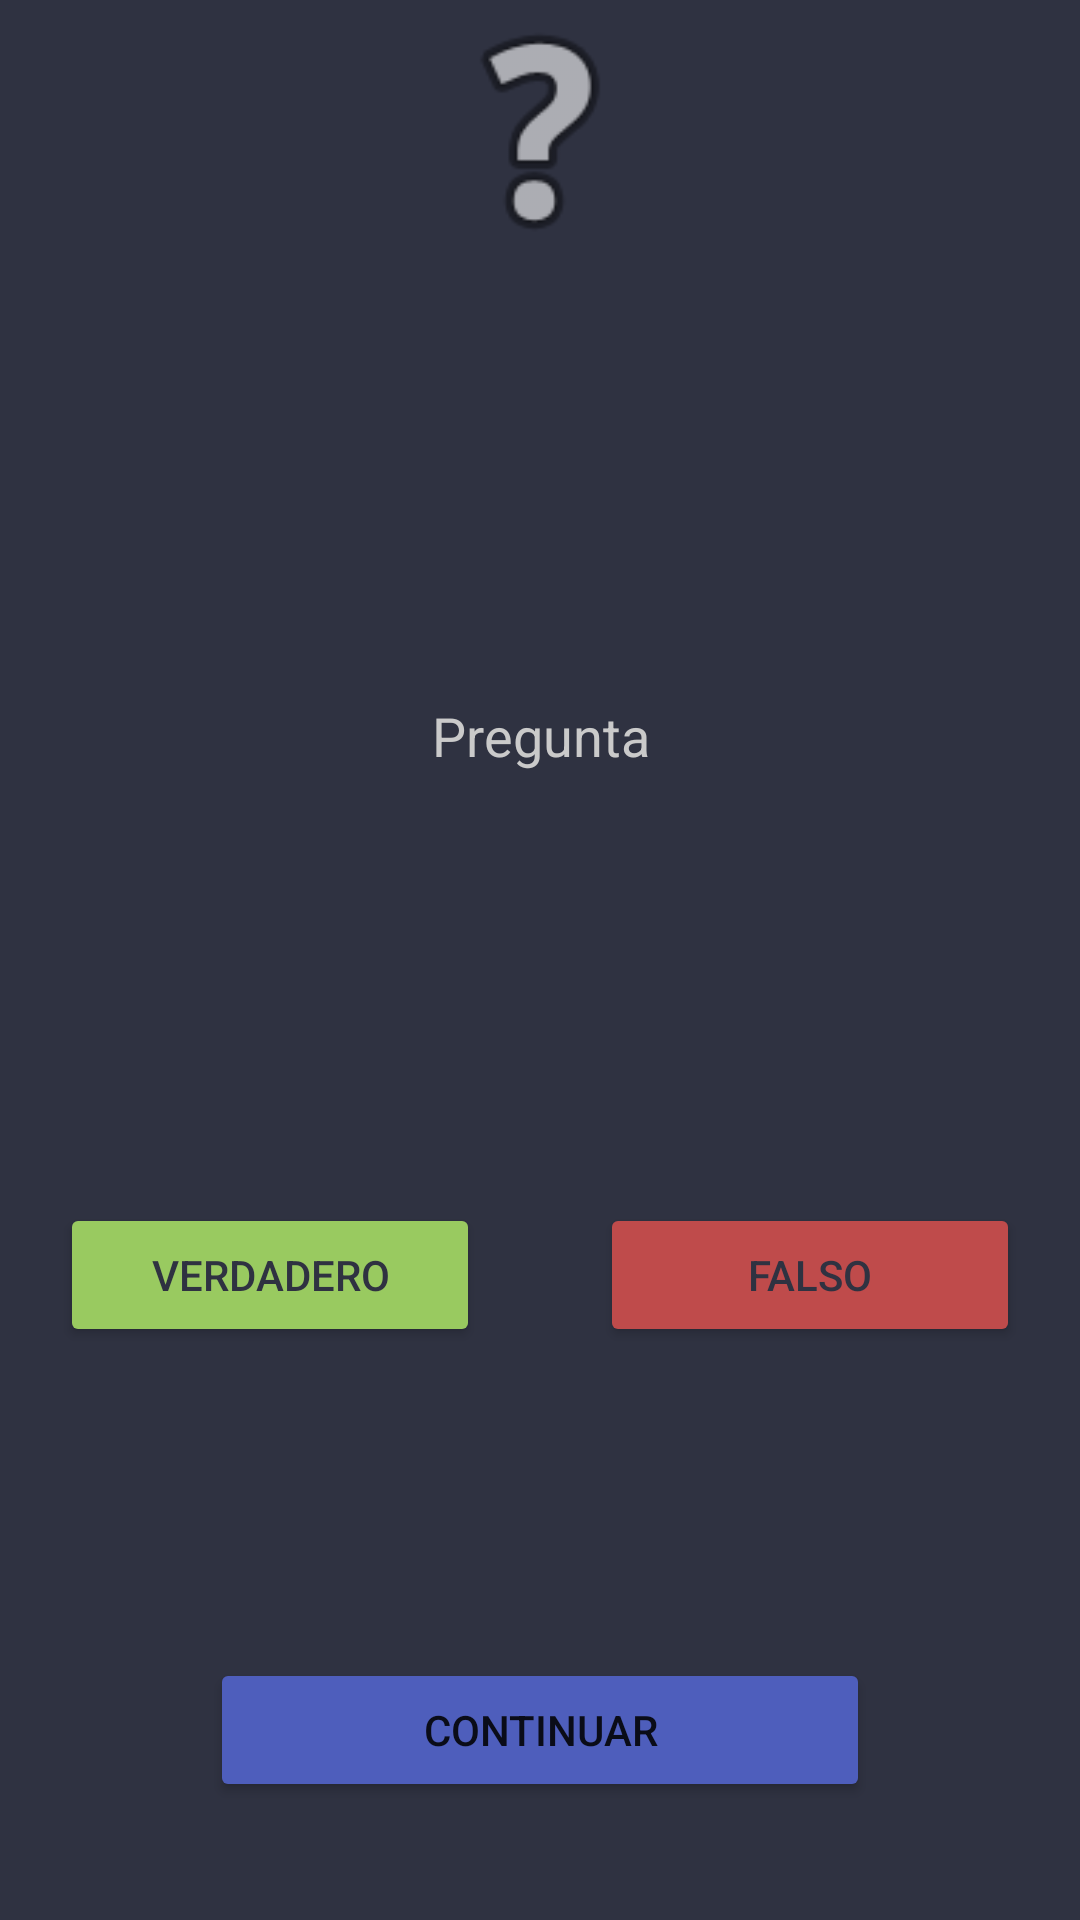

Screen size 1080*1920. Icon name, then its box in pixels as bbox=(x1, y1, x2, y2):
help: bbox=(484, 37, 596, 227)
